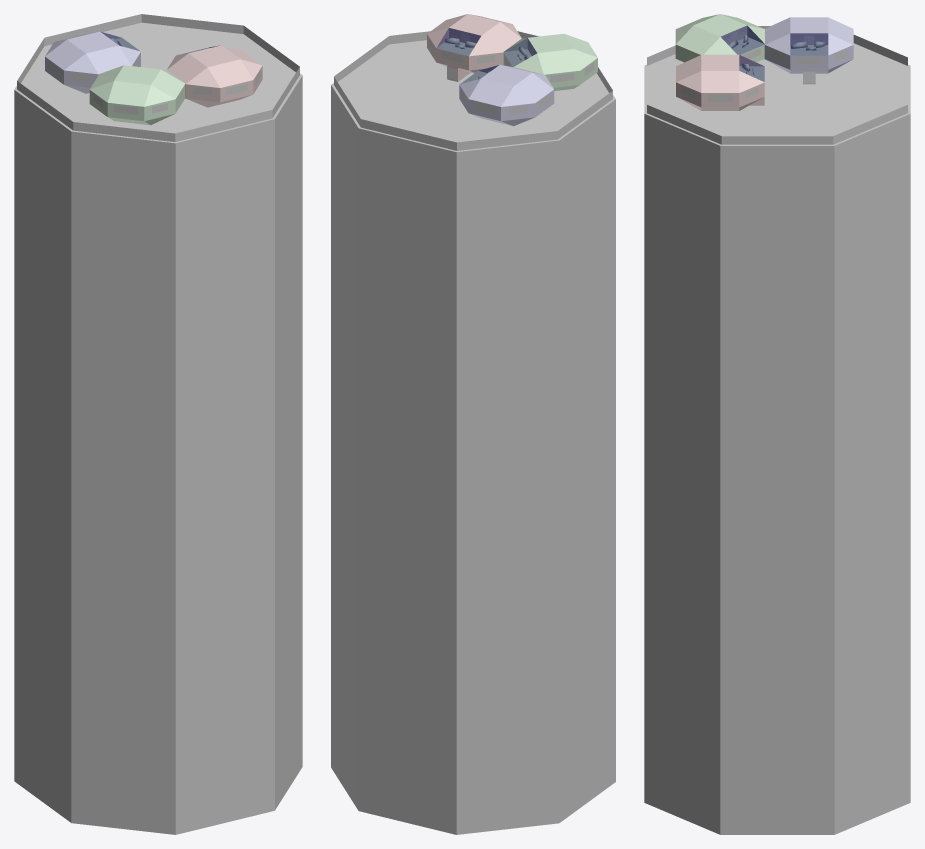
File: combo1_lod2.dae
3 views of the same model, side by side, from view 1: azimuth 30°, elevation 25°; view 2: azimuth 150°, elevation 25°; view 3: azimuth 270°, elevation 25° (orthographic).
Visible parts, largest first — view 1: combo_lod2; view 2: combo_lod2; view 3: combo_lod2.
Boxes of the visible parts, x1,y1,x2,y2 form: combo_lod2: [14, 14, 302, 834]; combo_lod2: [331, 14, 615, 834]; combo_lod2: [644, 14, 910, 834].
Bounding box in the file's own units: 42 × 42 × 127.
